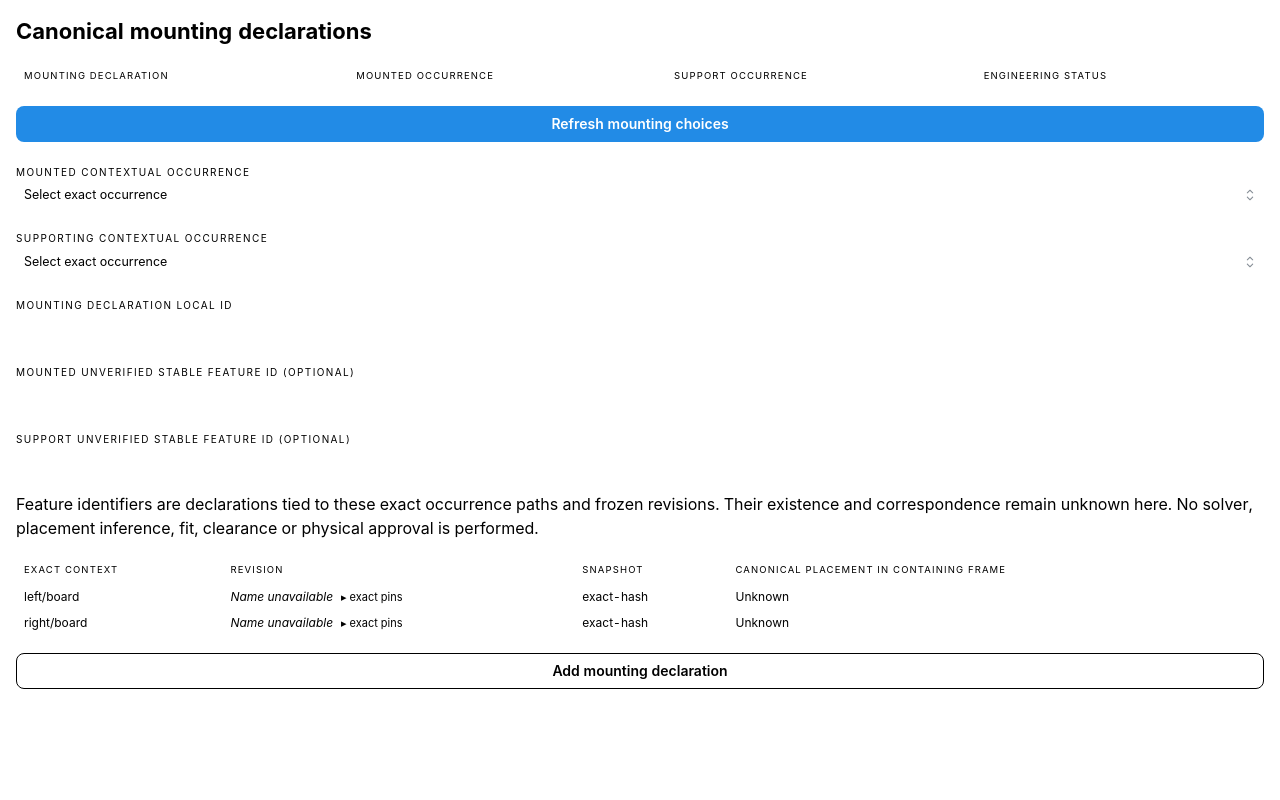
Test: current source denial clears cached nested labels and asks parent to discard evidence
The width and height of the screenshot is (1280, 800).
Click the button "Refresh mounting choices".
click(640, 124)  # box [16,106,1264,142]
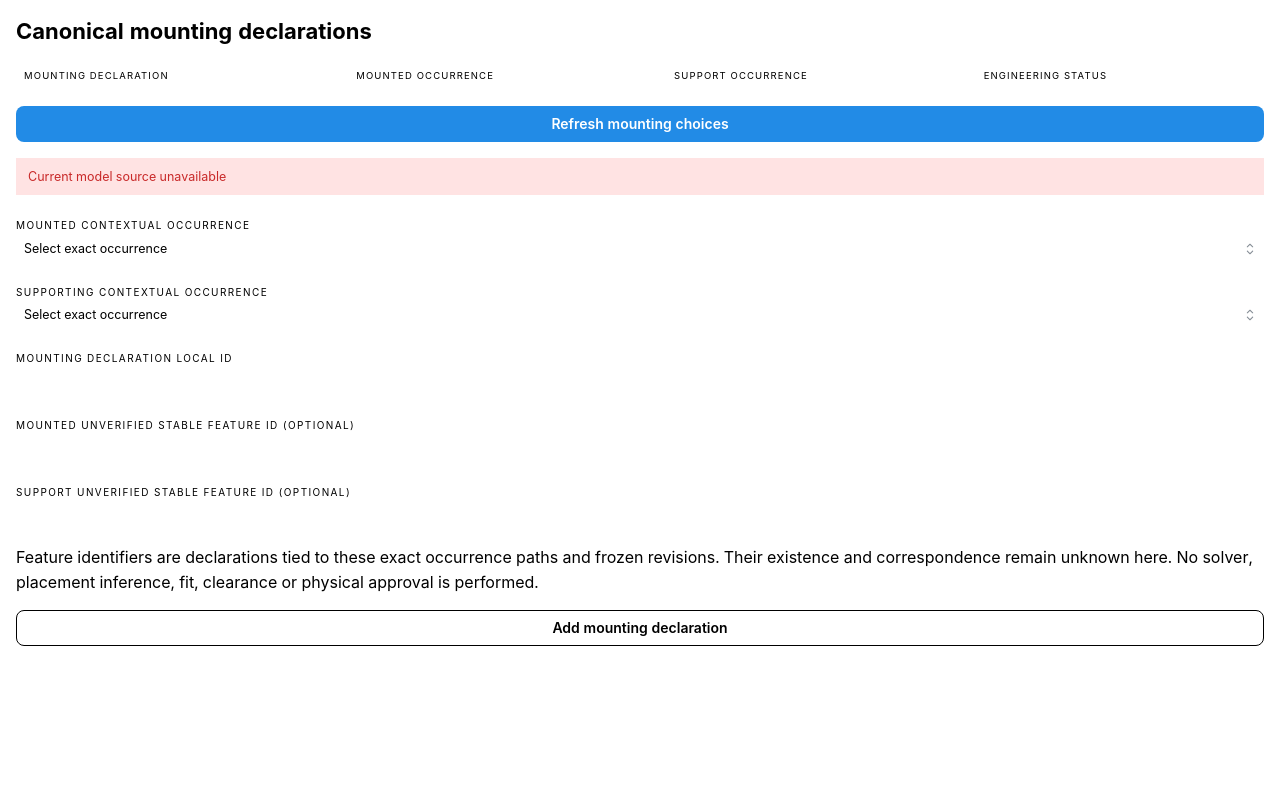
Now the text "exact-hash" is not shown
